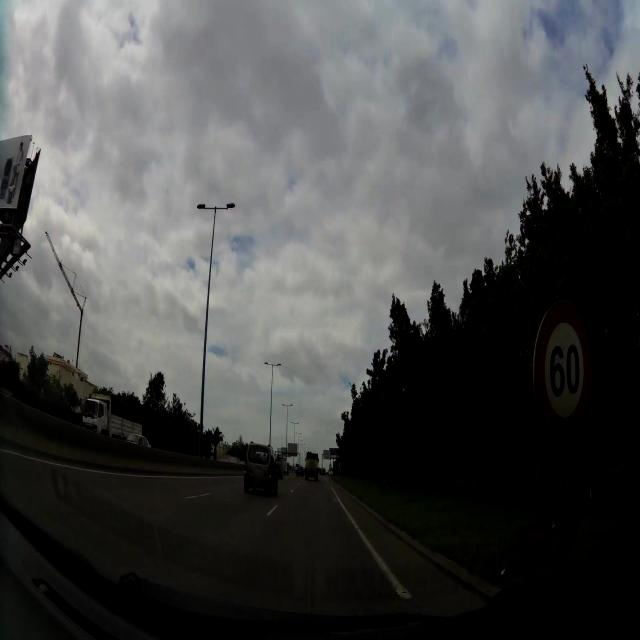car: (243, 441, 279, 496), (130, 435, 152, 448), (296, 464, 304, 477)
